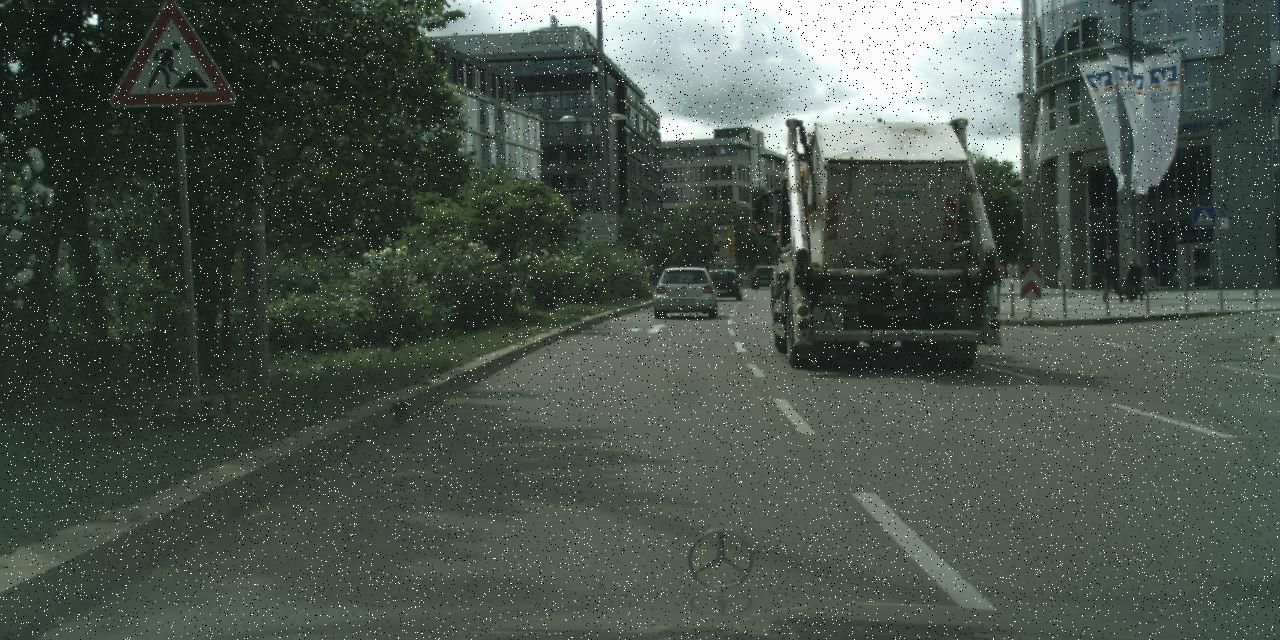ped: (1100, 248, 1120, 301), (1125, 256, 1143, 300), (1098, 260, 1110, 290), (1013, 262, 1022, 284), (1006, 261, 1012, 279)
